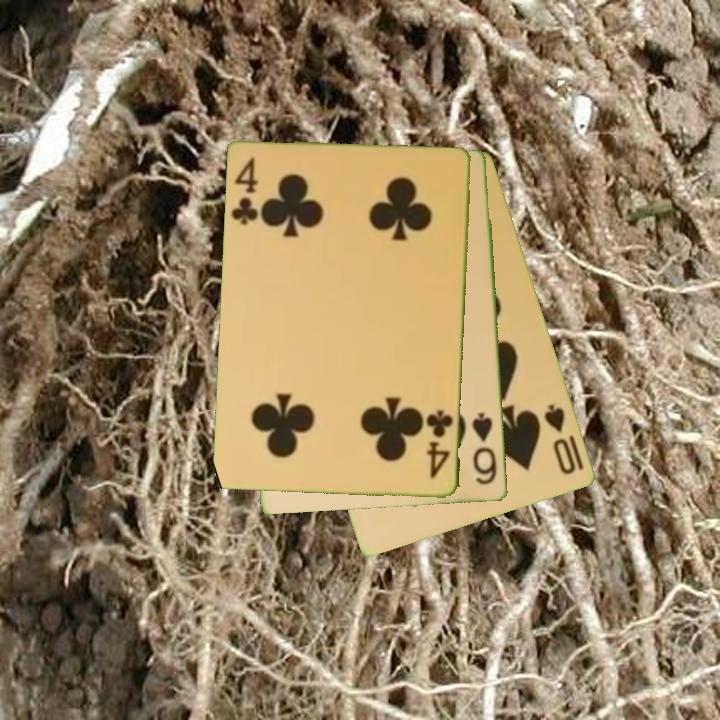10s: (541, 400, 579, 478)
4c: (423, 406, 456, 481), (229, 155, 262, 229)
6s: (468, 409, 500, 488)
